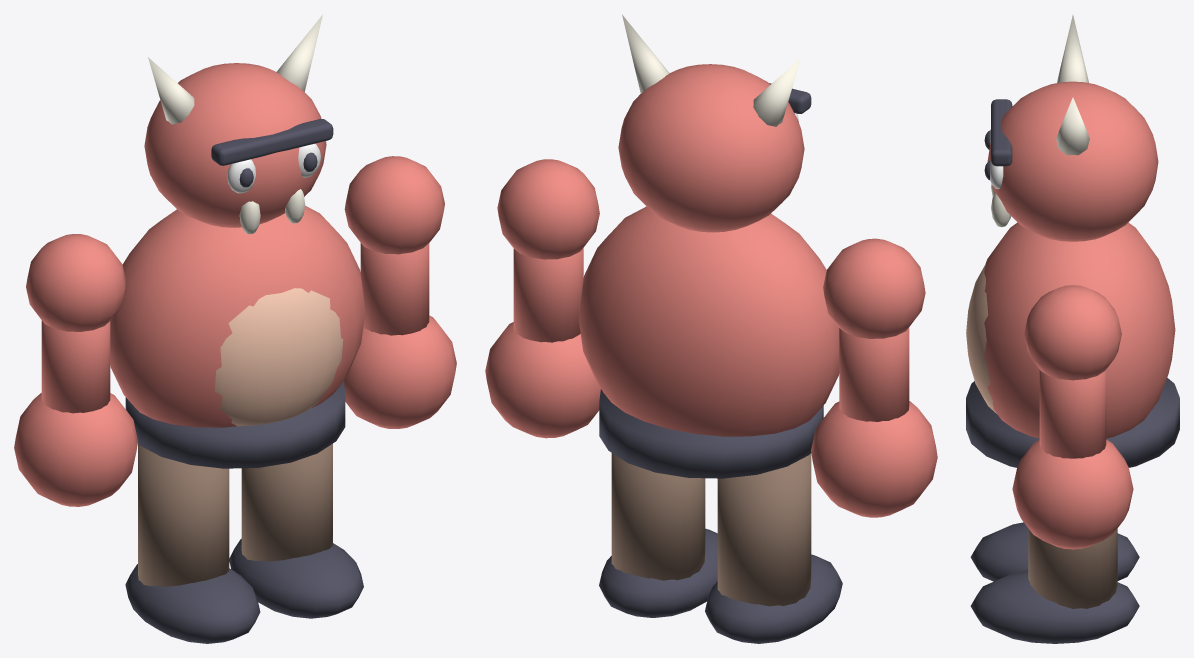
The model's file is Brute.fbx.
The picture shows the model from 3 angles, left to right: view 1: azimuth 30°, elevation 25°; view 2: azimuth 150°, elevation 25°; view 3: azimuth 270°, elevation 25°; orthographic projection. The views are drawn at different scales.
Parts seen in each view (by area): view 1: Body, Head, ArmR, ArmL, LegR, LegL; view 2: Body, Head, ArmR, ArmL, LegR, LegL; view 3: Body, Head, ArmL, LegL, LegR.
Part boxes in pixels (x1,y1,x2,y2): Body: (110, 205, 365, 468); Head: (144, 14, 333, 234); ArmR: (14, 234, 137, 506); ArmL: (343, 156, 456, 428); LegR: (125, 444, 260, 643); LegL: (229, 443, 363, 618); Body: (578, 206, 839, 478); Head: (618, 14, 811, 232); ArmR: (811, 238, 937, 517); ArmL: (485, 159, 600, 438); LegR: (705, 453, 842, 643); LegL: (599, 453, 717, 617); Body: (966, 222, 1179, 467); Head: (984, 15, 1158, 241); ArmL: (1012, 285, 1133, 549); LegL: (970, 528, 1139, 643); LegR: (970, 522, 1139, 581).
Bounding box in the file's own units: 1.34 × 1.72 × 0.6.
